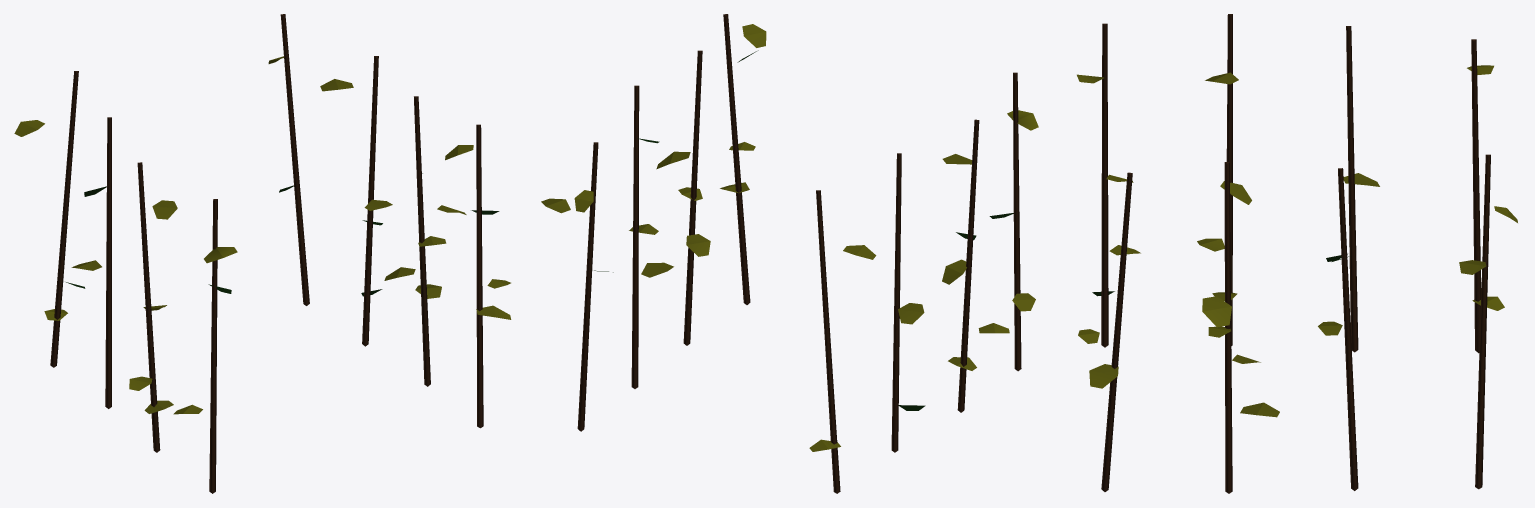
Rendered from fm_yam_3_lod1.glb.
The picture shows the model from 3 angles, left to right: view 1: azimuth 30°, elevation 25°; view 2: azimuth 150°, elevation 25°; view 3: azimuth 270°, elevation 25°; orthographic projection. The views are drawn at different scales.
Visible parts, largest first — view 1: fm_yam_3_lod1; view 2: fm_yam_3_lod1; view 3: fm_yam_3_lod1.
Part boxes in pixels (x1,y1,x2,y2): fm_yam_3_lod1: (14,14,511,493); fm_yam_3_lod1: (541,14,1038,493); fm_yam_3_lod1: (1077,14,1517,493).
Bounding box in the file's own units: 2.58 × 2.1 × 2.64.
